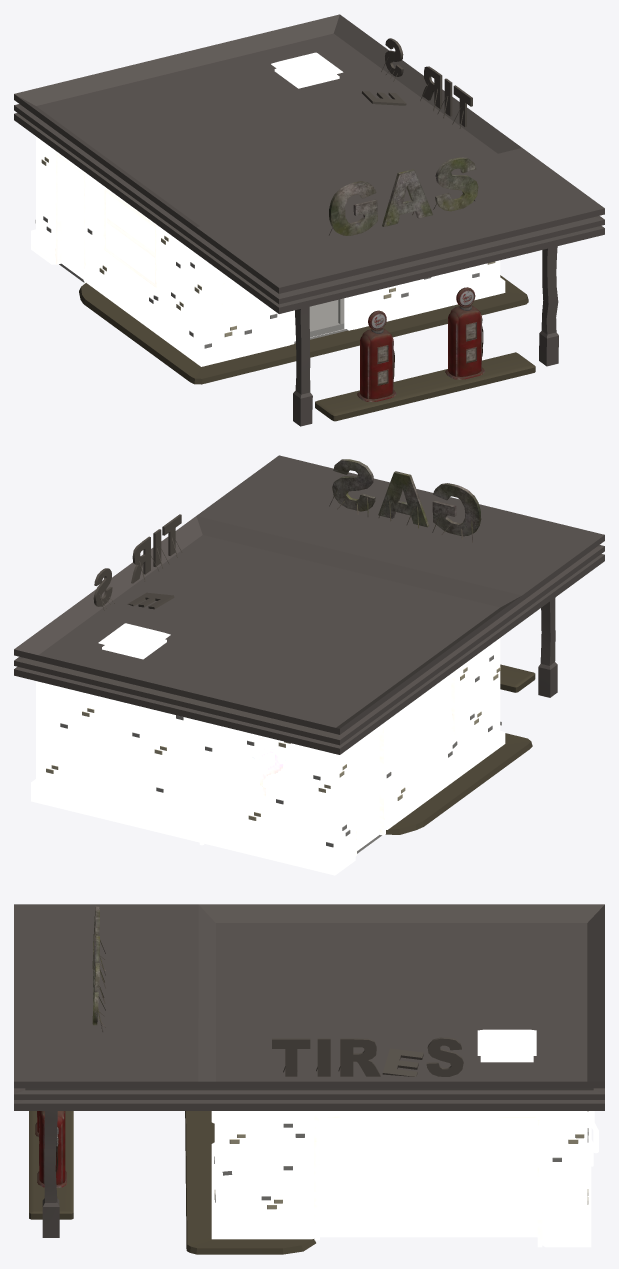
The model's file is roadside-gas.access-v19.lod0.glb.
3 renders of one model, top to bottom at view 1: azimuth 30°, elevation 25°; view 2: azimuth 150°, elevation 25°; view 3: azimuth 270°, elevation 25°, orthographic. The views are drawn at different scales.
Visible parts, largest first — view 1: Brick_A:Brick_Single_Geo_Single_Brick_0, Gas_Station_Model:Gas_Station_Body_main_shader_0, GAS_Sign:Supports_GAS_SIgn_0, Gas_Pump:Body_Geo_Pump_Main_Shader_0, Gas_Station_Model:polySurface3_Building_Extra_Shader_0, Gas_Pump:Pump_Top_Sign_Geo_pump_misc_shader_0; view 2: Brick_A:Brick_Single_Geo_Single_Brick_0, Gas_Station_Model:Gas_Station_Body_main_shader_0, Gas_Station_Model:polySurface3_Building_Extra_Shader_0, GAS_Sign:Supports_GAS_SIgn_0; view 3: Brick_A:Brick_Single_Geo_Single_Brick_0, Gas_Station_Model:polySurface3_Building_Extra_Shader_0, Gas_Station_Model:Gas_Station_Body_main_shader_0, Gas_Pump:Body_Geo_Pump_Main_Shader_0, GAS_Sign:Supports_GAS_SIgn_0.
Part boxes in pixels (x1,y1,x2,y2): Brick_A:Brick_Single_Geo_Single_Brick_0: [14, 14, 604, 426]; Gas_Station_Model:Gas_Station_Body_main_shader_0: [31, 136, 505, 366]; GAS_Sign:Supports_GAS_SIgn_0: [329, 157, 478, 235]; Gas_Pump:Body_Geo_Pump_Main_Shader_0: [357, 305, 484, 402]; Gas_Station_Model:polySurface3_Building_Extra_Shader_0: [57, 52, 346, 341]; Gas_Pump:Pump_Top_Sign_Geo_pump_misc_shader_0: [368, 287, 483, 378]; Brick_A:Brick_Single_Geo_Single_Brick_0: [14, 455, 604, 853]; Gas_Station_Model:Gas_Station_Body_main_shader_0: [31, 638, 505, 875]; Gas_Station_Model:polySurface3_Building_Extra_Shader_0: [98, 623, 383, 850]; GAS_Sign:Supports_GAS_SIgn_0: [329, 459, 481, 542]; Brick_A:Brick_Single_Geo_Single_Brick_0: [14, 904, 604, 1254]; Gas_Station_Model:polySurface3_Building_Extra_Shader_0: [320, 1029, 598, 1237]; Gas_Station_Model:Gas_Station_Body_main_shader_0: [211, 1111, 591, 1247]; Gas_Pump:Body_Geo_Pump_Main_Shader_0: [35, 1111, 66, 1187]; GAS_Sign:Supports_GAS_SIgn_0: [92, 906, 105, 1032].
Bounding box in the file's own units: 12.84 × 7.47 × 17.41.
Materials: 6 (5 with a texture image).
